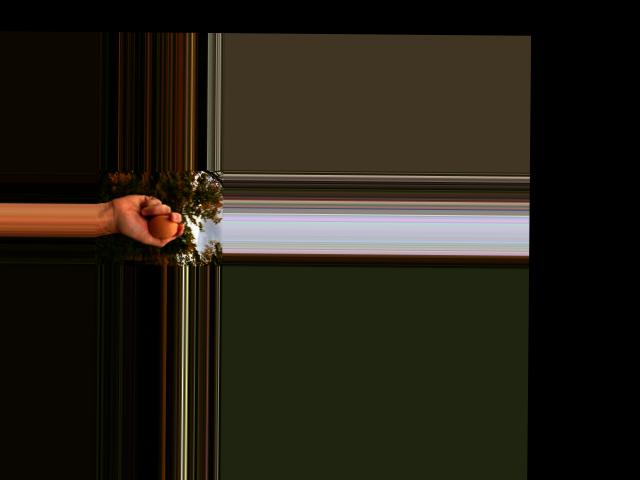egg: (148, 213, 178, 237)
